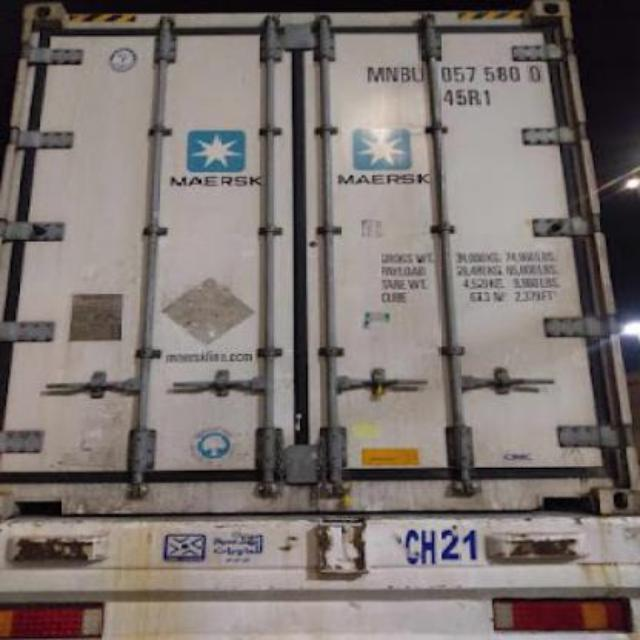0: (508, 56, 522, 86), (526, 61, 542, 85), (441, 60, 454, 84)
5: (452, 60, 466, 84), (482, 62, 496, 84)
7: (464, 54, 476, 84)
8: (496, 58, 509, 86)
B: (398, 52, 412, 84)
M: (364, 60, 386, 86)
N: (384, 56, 400, 84)
U: (410, 62, 422, 84)
